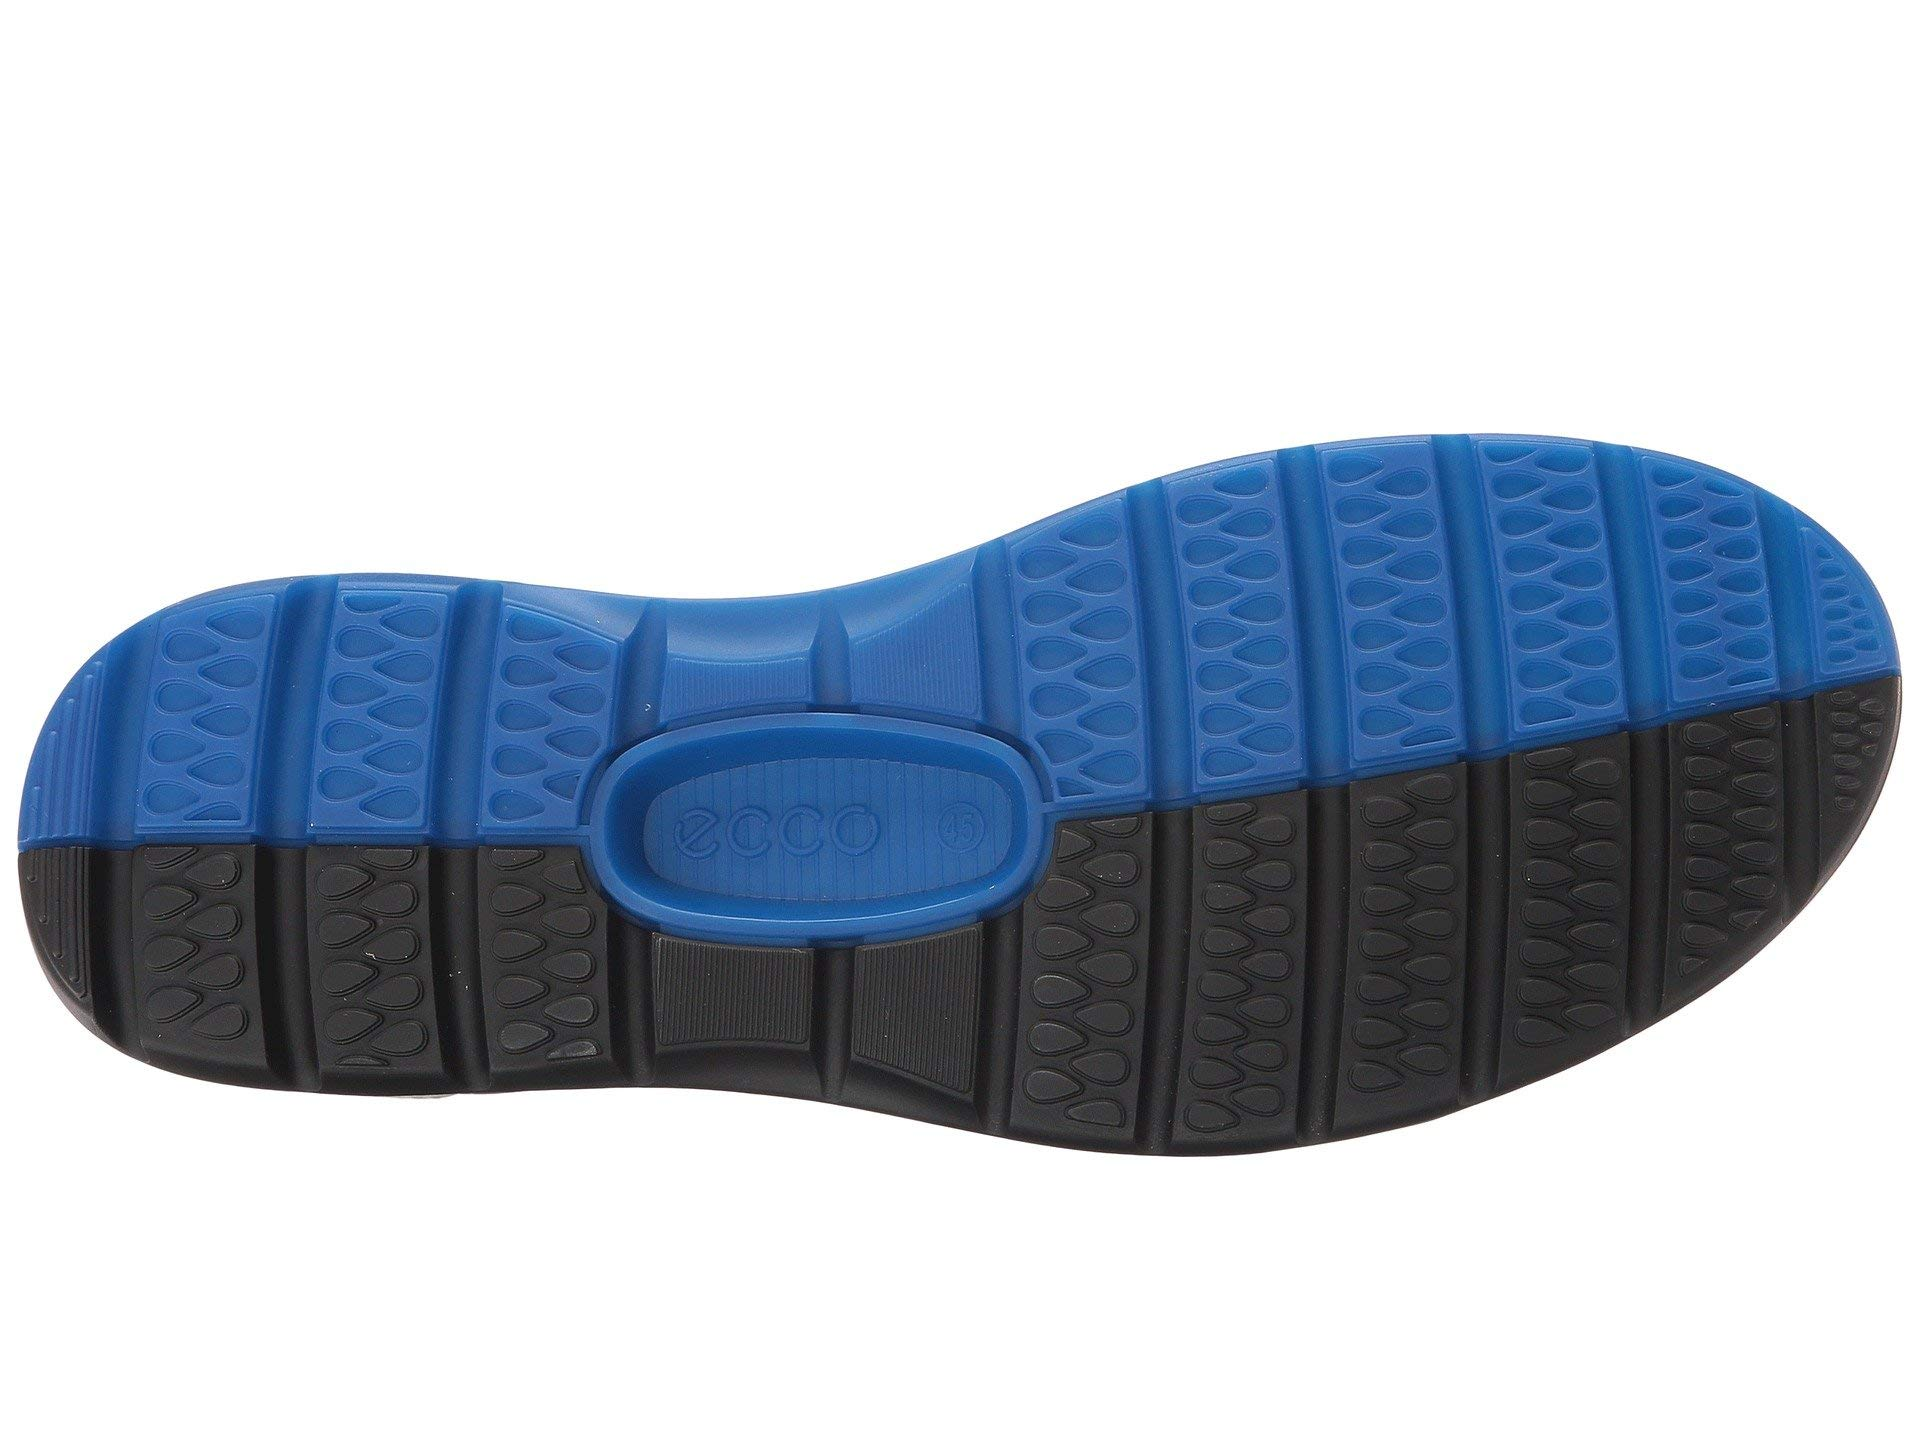circle: (503, 647, 1110, 1116)
quad: (503, 647, 1110, 1116)
text: (503, 647, 1110, 1116)
